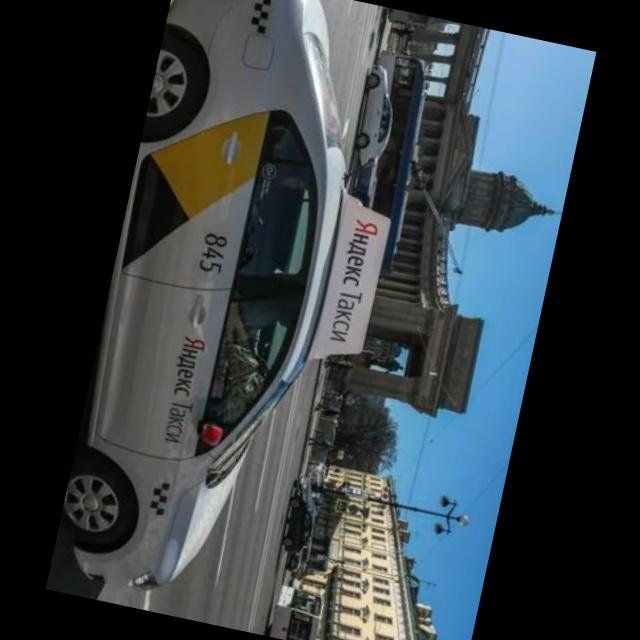taxi: (48, 1, 436, 628)
